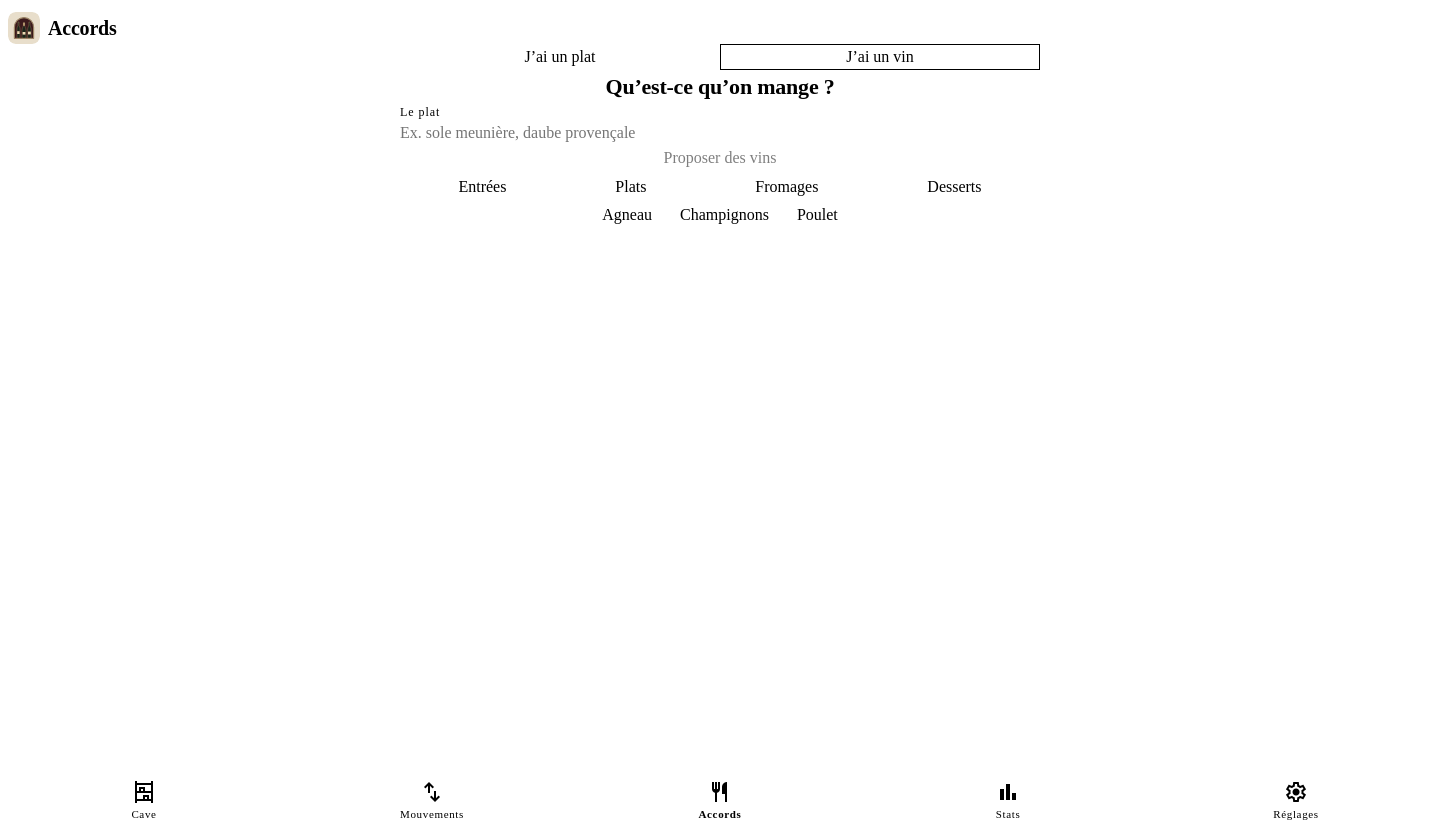
Test: Parcourir : onglets au clavier, pastilles en ordre alphabétique, une pastille lance l’accord
Expected: the tabs read "Entrées", "Plats", "Fromages", "Desserts", in this order, [404,175,561,199]; [561,175,701,199]; [701,175,873,199]; [873,175,1036,199]
Expected: the buttons read "Agneau", "Champignons", "Poulet", in this order, [588,203,666,227]; [666,203,783,227]; [783,203,852,227]
Step 1. Press Arrowright
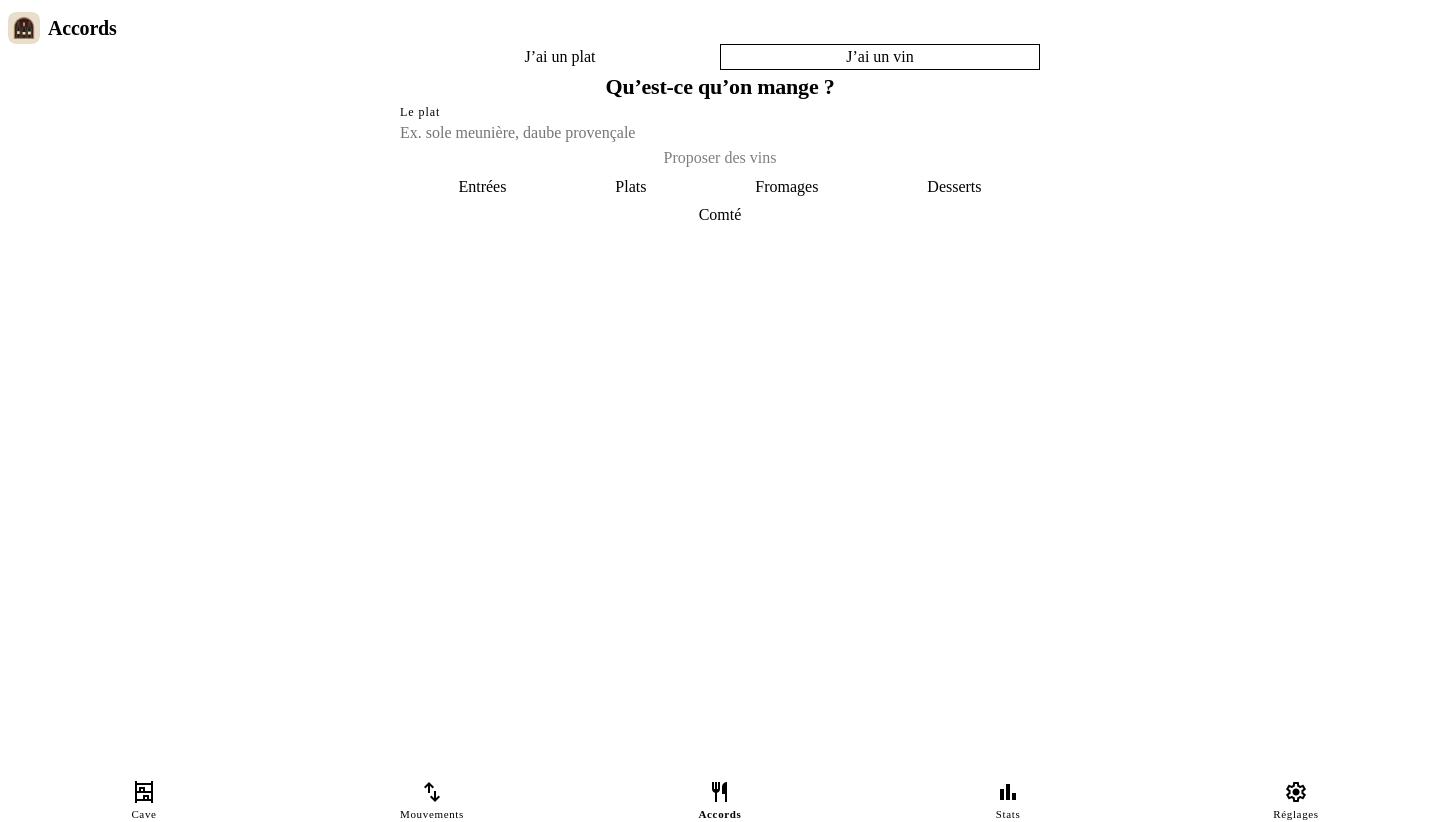
Step 2. Click the button "Comté" → x=720, y=215, box [685,203,755,227]
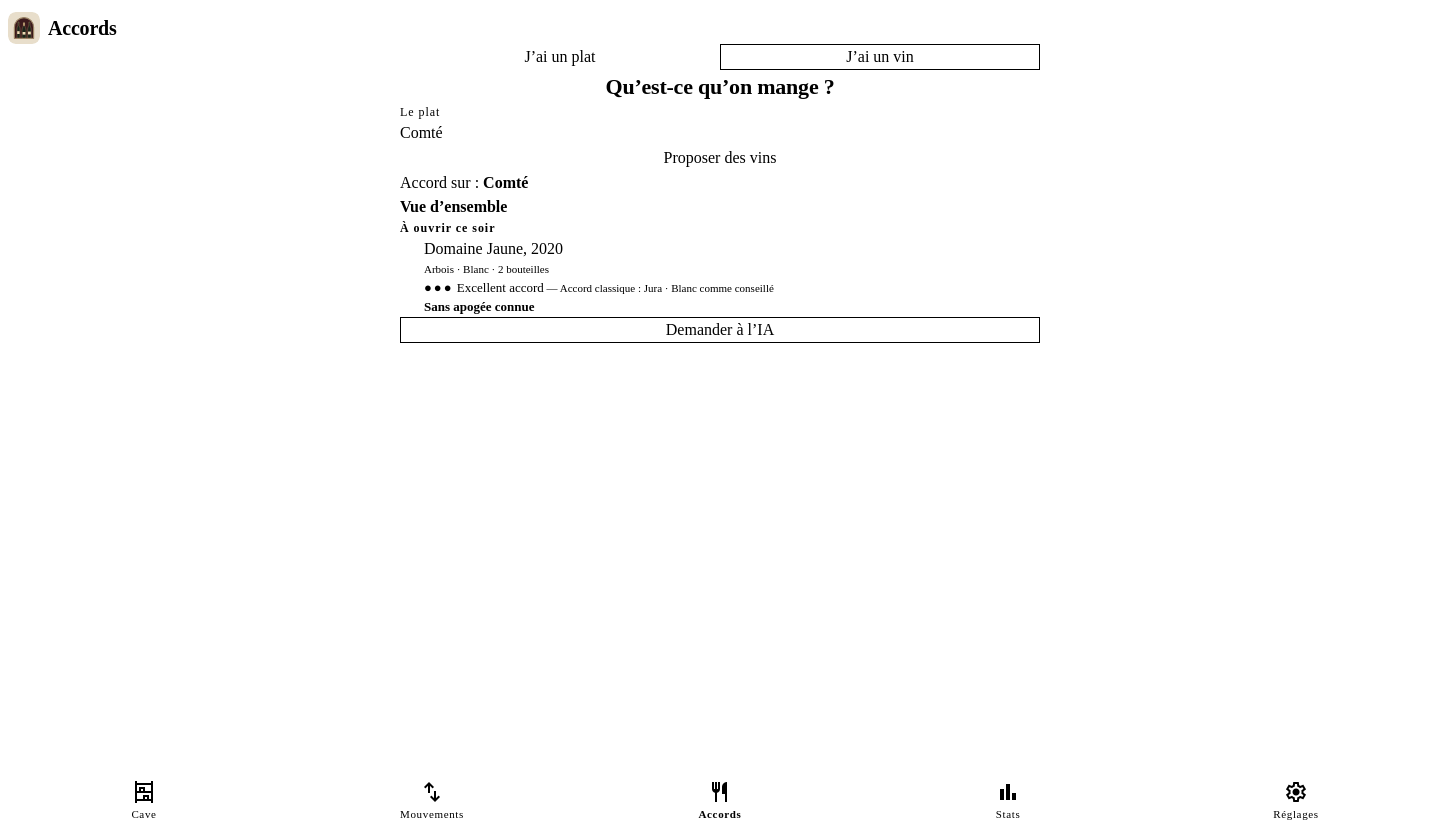
Expected: the text "Comté" is shown, [483,174,528,191]
Expected: the link "Domaine Jaune" is shown, [408,240,774,314]
Expected: the element "Rubriques" is gone
